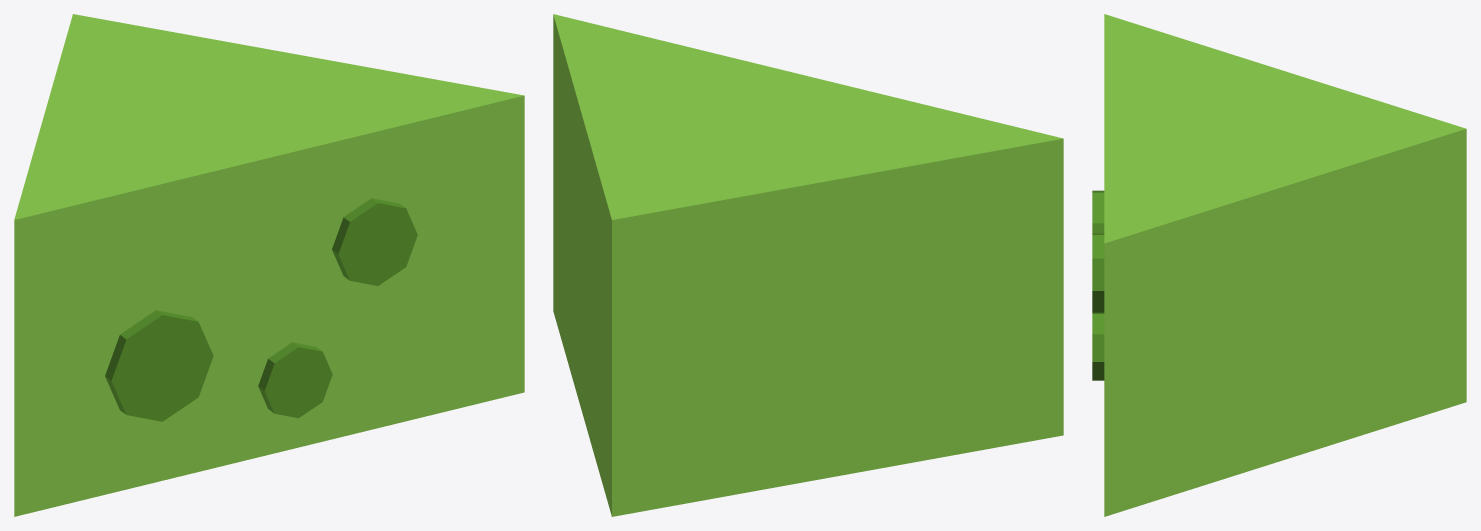
The model's file is cheese_poisoned.glb.
The picture shows the model from 3 angles, left to right: view 1: azimuth 30°, elevation 25°; view 2: azimuth 150°, elevation 25°; view 3: azimuth 270°, elevation 25°; orthographic projection. The views are drawn at different scales.
Visible parts, largest first — view 1: cheese_poisoned; view 2: cheese_poisoned; view 3: cheese_poisoned.
Boxes of the visible parts, x1=… form: cheese_poisoned: x1=14, y1=14, x2=524, y2=516; cheese_poisoned: x1=553, y1=14, x2=1063, y2=516; cheese_poisoned: x1=1092, y1=14, x2=1466, y2=516.
Size of the model in its own units: 0.09 by 0.05 by 0.062.
